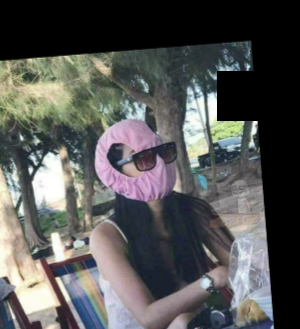with_mask: (122, 138, 177, 201)
